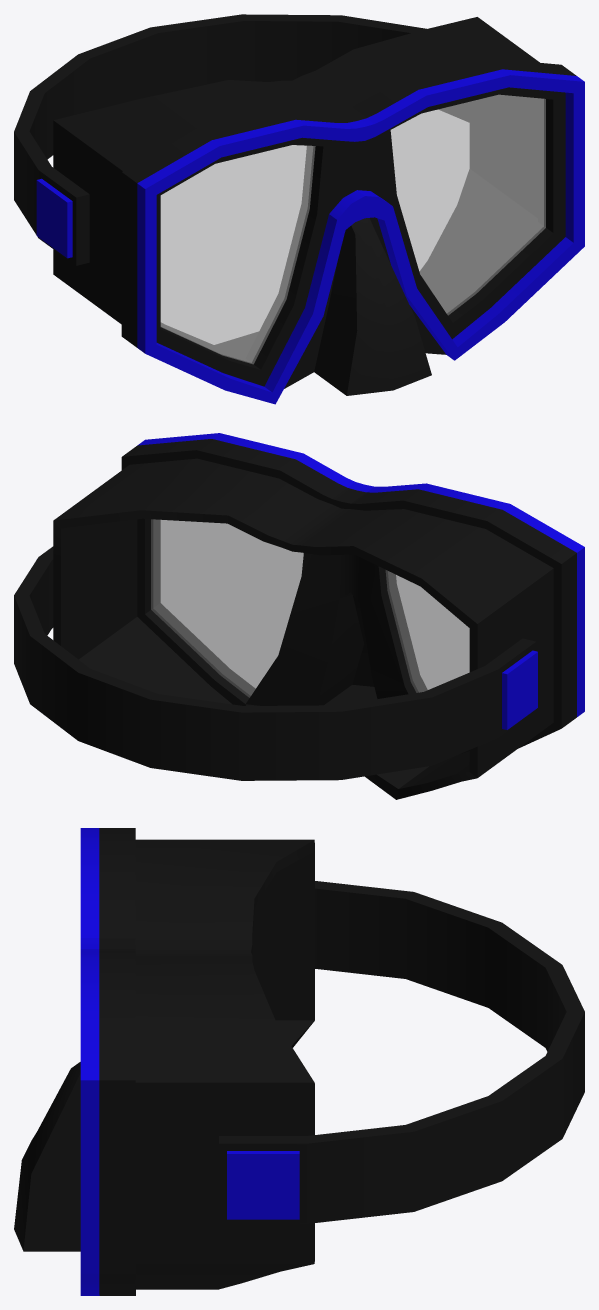
File: Goggles.fbx
3 views of the same model, one above another, from view 1: azimuth 30°, elevation 25°; view 2: azimuth 150°, elevation 25°; view 3: azimuth 270°, elevation 25° (orthographic). The views are drawn at different scales.
Parts seen in each view (by area): view 1: Plane.001, lenses.001, Cube.001; view 2: Plane.001, Cube.001, lenses.001; view 3: Plane.001, Cube.001.
Part boxes in pixels (x1,y1,x2,y2): Plane.001: [53, 17, 584, 404]; lenses.001: [160, 94, 545, 363]; Cube.001: [14, 14, 469, 265]; Plane.001: [53, 433, 584, 799]; Cube.001: [14, 546, 537, 780]; lenses.001: [151, 519, 469, 697]; Plane.001: [14, 828, 314, 1295]; Cube.001: [219, 881, 584, 1223].
Bounding box in the file's own units: 147 × 80.99 × 131.
